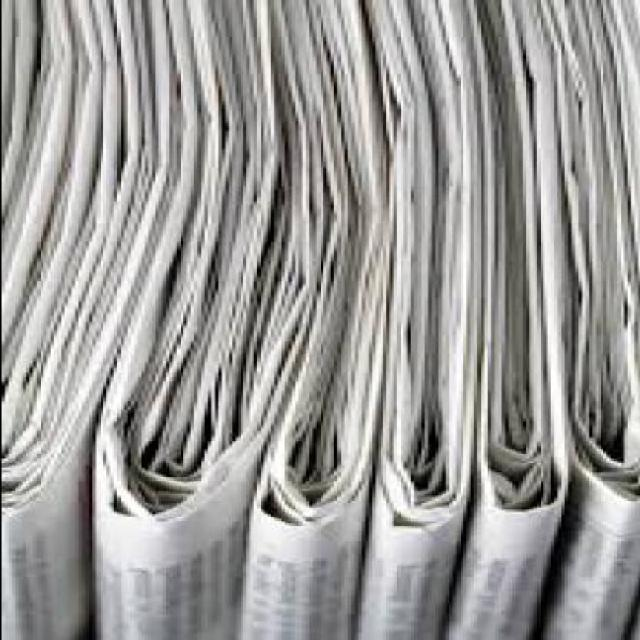PAPER: (1, 0, 638, 638), (86, 0, 287, 638), (241, 0, 369, 638), (352, 0, 469, 638), (471, 0, 571, 638), (1, 0, 90, 638), (569, 0, 636, 638)
